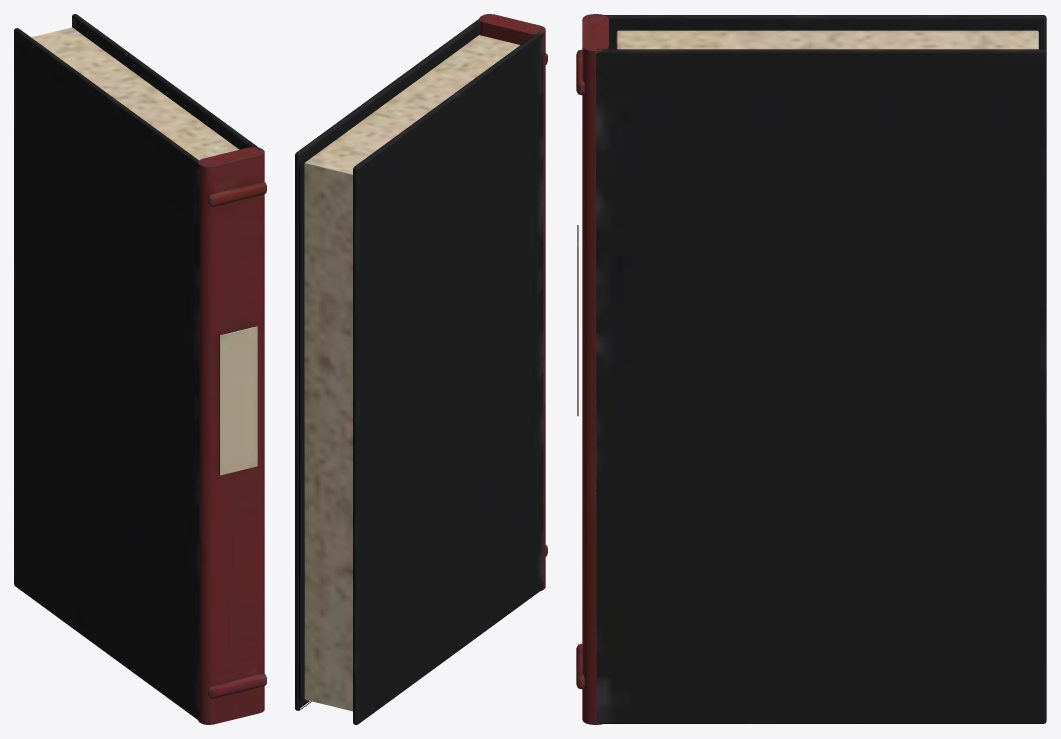
File: ledger-b.glb
3 views of the same model, side by side, from view 1: azimuth 30°, elevation 25°; view 2: azimuth 150°, elevation 25°; view 3: azimuth 270°, elevation 25° (orthographic). The views are drawn at different scales.
Visible parts, largest first — view 1: ledger; view 2: ledger; view 3: ledger.
Boxes of the visible parts, <box> form: ledger: <box>14,14,266,724</box>; ledger: <box>295,14,547,724</box>; ledger: <box>576,14,1046,724</box>.
Bounding box in the file's own units: 0.04 × 0.338 × 0.2138.
Materials: 1 (1 with a texture image).
